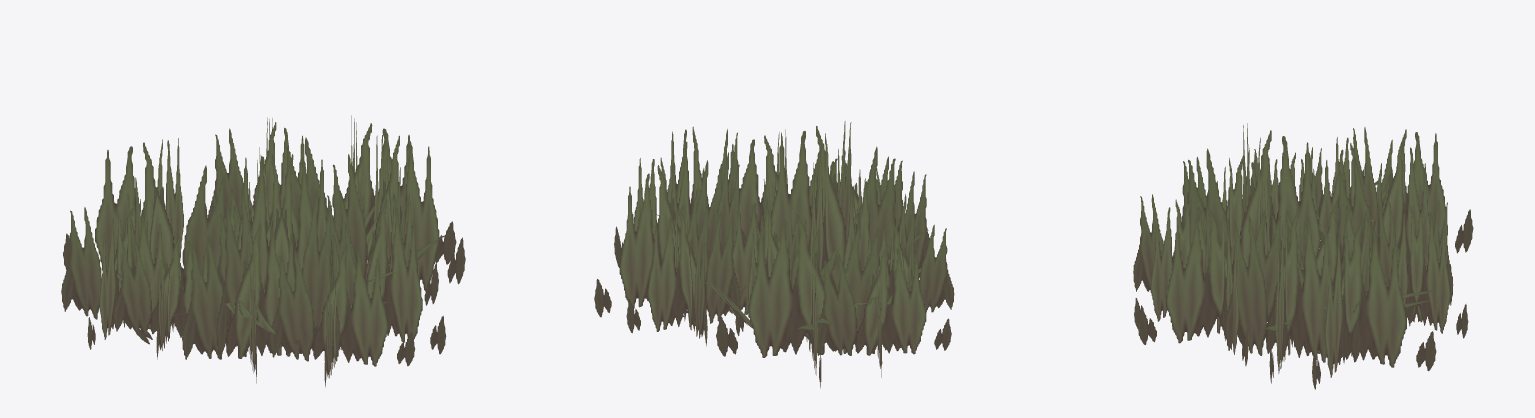
The model's file is Prop_Grass_01.FBX.
3 renders of one model, left to right at view 1: azimuth 30°, elevation 25°; view 2: azimuth 150°, elevation 25°; view 3: azimuth 270°, elevation 25°, orthographic. The views are drawn at different scales.
Visible parts, largest first — view 1: Prop_Grass_01; view 2: Prop_Grass_01; view 3: Prop_Grass_01.
Boxes of the visible parts, x1=… form: Prop_Grass_01: x1=61, y1=115, x2=465, y2=387; Prop_Grass_01: x1=594, y1=121, x2=954, y2=388; Prop_Grass_01: x1=1133, y1=123, x2=1473, y2=389.
Bounding box in the file's own units: 4.22 × 2.26 × 3.83.
